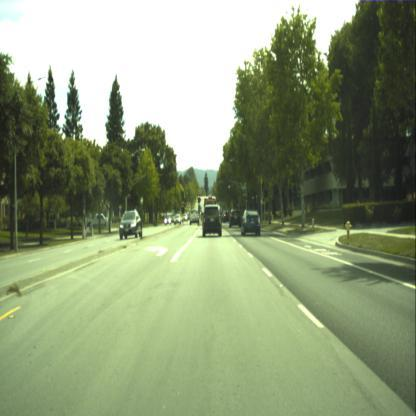Green: (228, 181, 230, 188), (252, 192, 253, 198), (246, 197, 247, 202)
Red: (198, 194, 200, 203), (182, 204, 184, 212)
